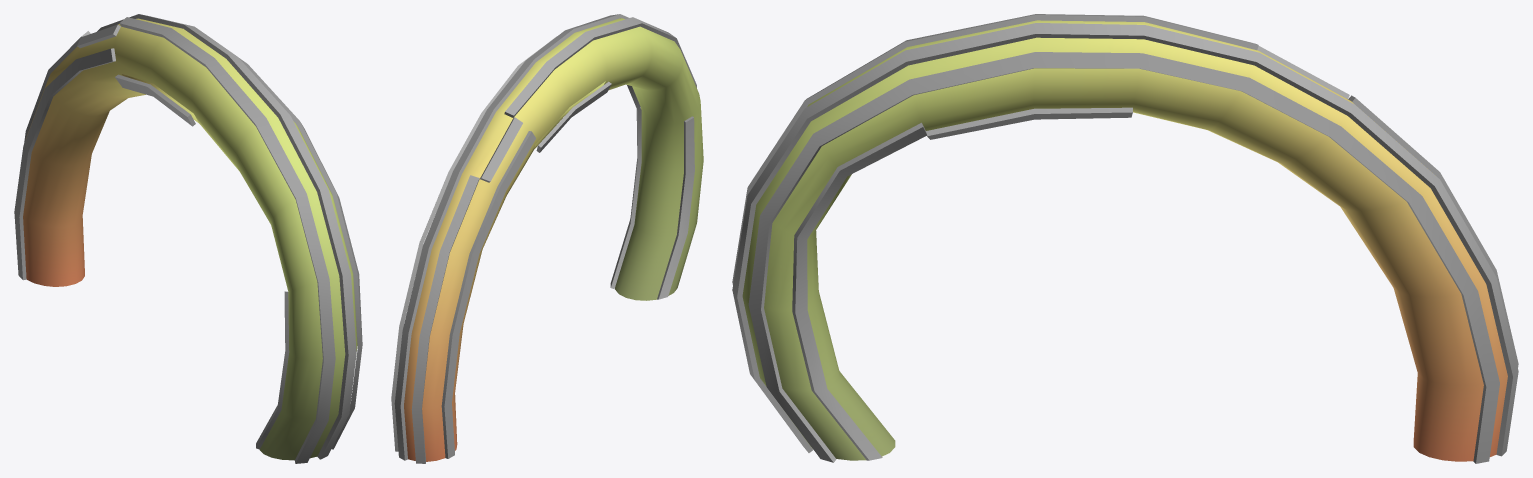
The model's file is Cable01.fbx.
The picture shows the model from 3 angles, left to right: view 1: azimuth 30°, elevation 25°; view 2: azimuth 150°, elevation 25°; view 3: azimuth 270°, elevation 25°; orthographic projection. The views are drawn at different scales.
Parts seen in each view (by area): view 1: polySurface3, polySurface2; view 2: polySurface3, polySurface2; view 3: polySurface3, polySurface2.
Boxes of the visible parts, x1,y1,x2,y2 form: polySurface3: (23, 18, 357, 460); polySurface2: (14, 14, 362, 463); polySurface3: (404, 18, 703, 461); polySurface2: (391, 14, 696, 463); polySurface3: (742, 20, 1507, 461); polySurface2: (732, 14, 1518, 463).
Bounding box in the file's own units: 0.3576 × 1.69 × 2.82.
